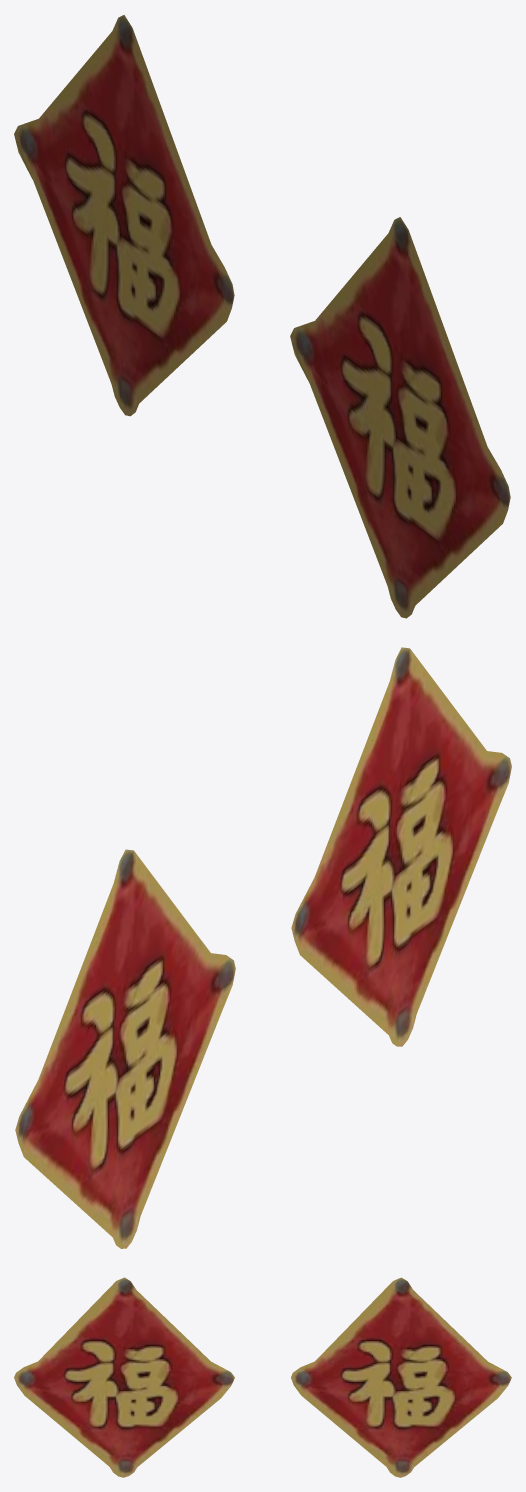
The model's file is chinese_door_decoration.glb.
The picture shows the model from 3 angles, top to bottom: view 1: azimuth 30°, elevation 25°; view 2: azimuth 150°, elevation 25°; view 3: azimuth 270°, elevation 25°; orthographic projection. The views are drawn at different scales.
Parts seen in each view (by area): view 1: chinese_door_decoration_LOD0; view 2: chinese_door_decoration_LOD0; view 3: chinese_door_decoration_LOD0.
Part boxes in pixels (<box>): chinese_door_decoration_LOD0: <box>14,15,510,618</box>; chinese_door_decoration_LOD0: <box>15,647,511,1248</box>; chinese_door_decoration_LOD0: <box>14,1277,511,1477</box>.
Size of the model in its own units: 0.00878 by 0.4916 by 1.11.
Materials: 1 (1 with a texture image).
